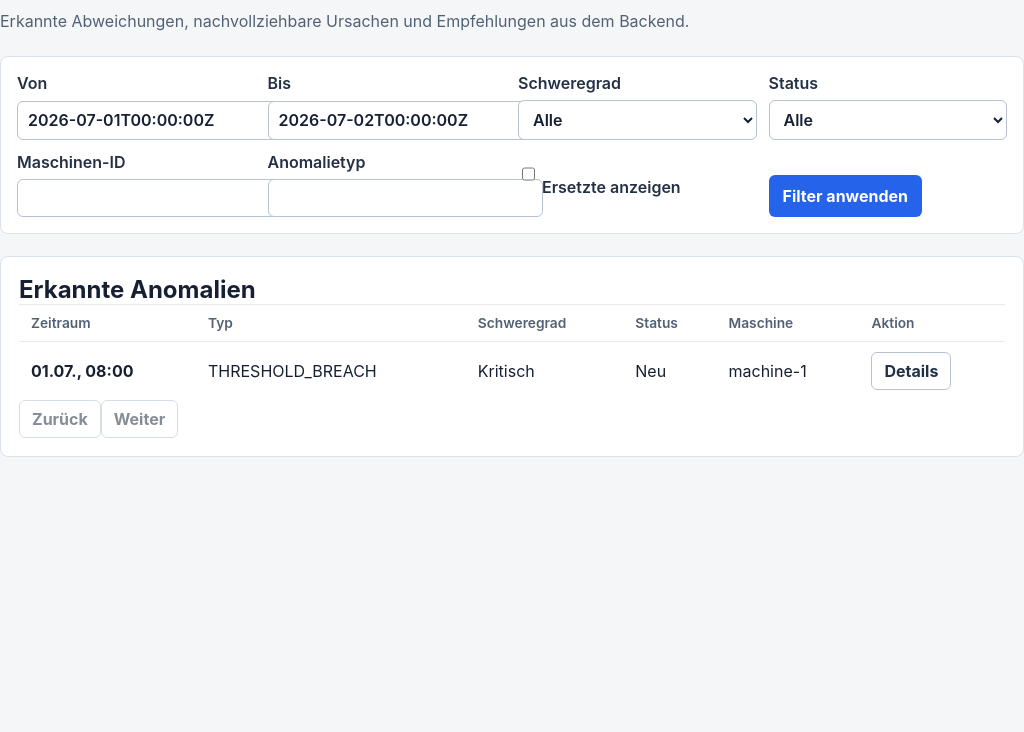
AnomaliesPage › shows backend anomaly data and recommendation disclaimer
Step 1. Click the button "Details" → (912, 371), box x1=872 y1=352 x2=952 y2=390
(page scrolled)
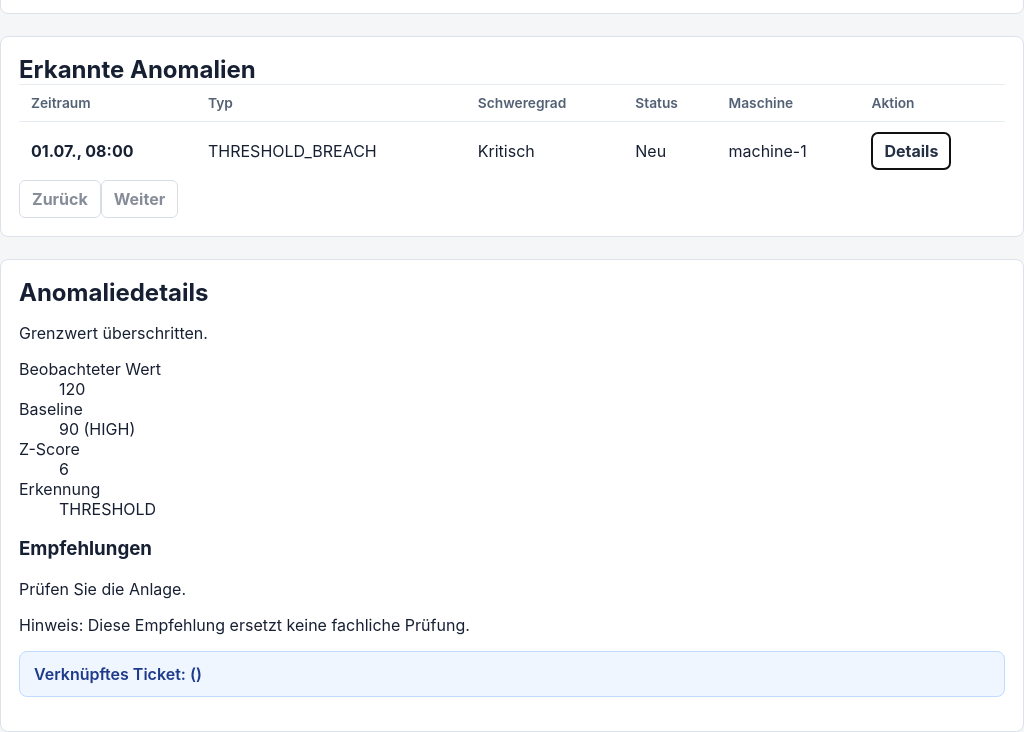
Check: the text "Hinweis: Diese Empfehlung ersetzt keine fachliche Prüfung." is shown, box x1=19 y1=615 x2=470 y2=635
